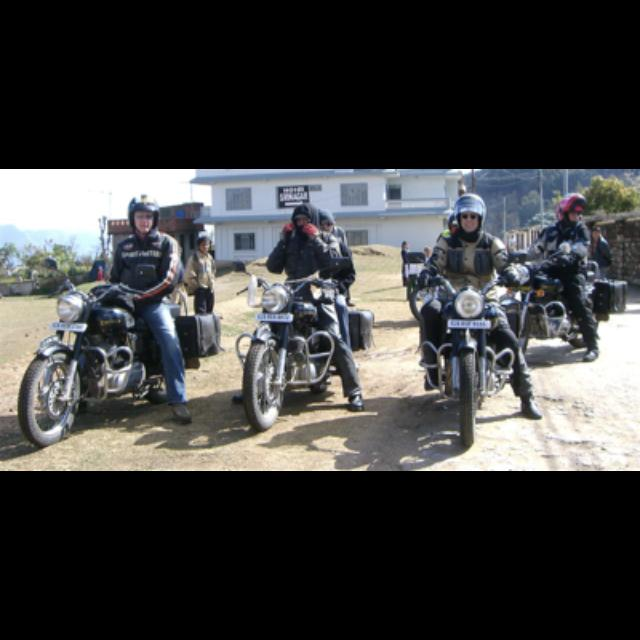With Helmet: (125, 194, 163, 236), (452, 193, 488, 235), (555, 193, 589, 227)
